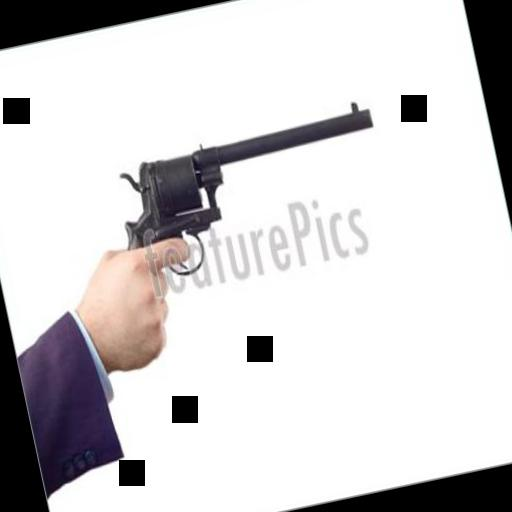Handgun: (98, 92, 400, 324)
